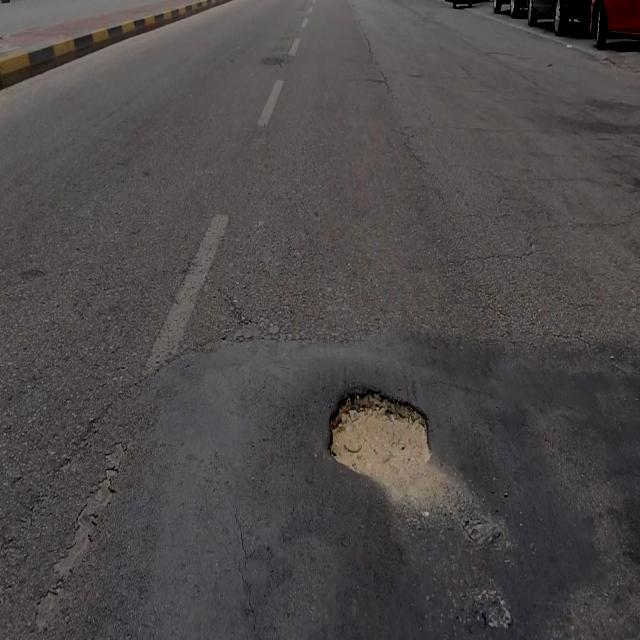Potholes: (327, 385, 434, 499)
